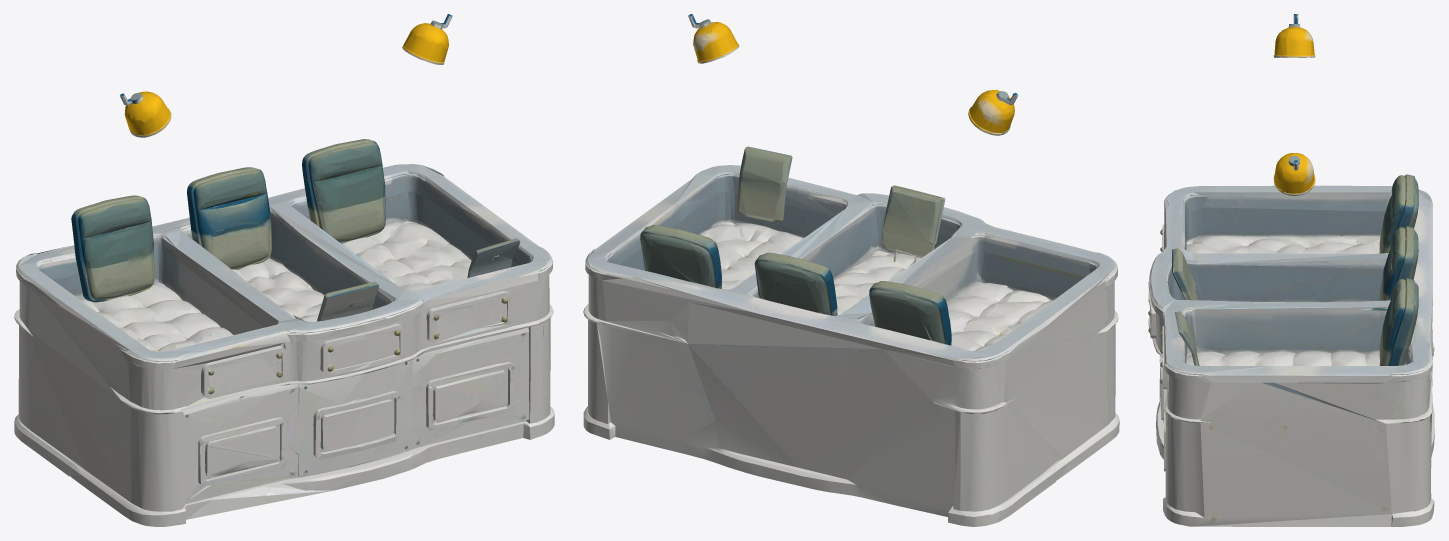
Rendered from review-desk.gltf.
The picture shows the model from 3 angles, left to right: view 1: azimuth 30°, elevation 25°; view 2: azimuth 150°, elevation 25°; view 3: azimuth 270°, elevation 25°; orthographic projection. The views are drawn at different scales.
Bounding box in the file's own units: 1.9 × 1.62 × 1.21.
1 material, 1 textured.
